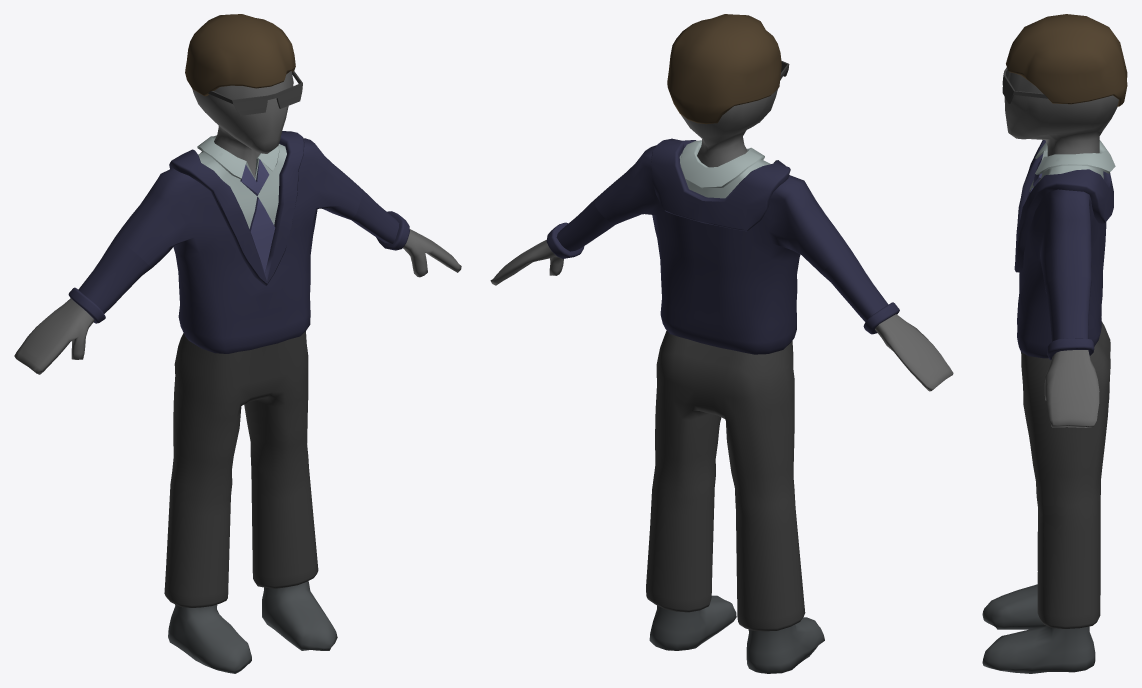
Rendered from PS_Businessman.fbx.
3 renders of one model, left to right at view 1: azimuth 30°, elevation 25°; view 2: azimuth 150°, elevation 25°; view 3: azimuth 270°, elevation 25°, orthographic. The views are drawn at different scales.
Parts seen in each view (by area): view 1: PS_BusinessMan; view 2: PS_BusinessMan; view 3: PS_BusinessMan.
Part boxes in pixels (<box>): PS_BusinessMan: <box>14,14,461,673</box>; PS_BusinessMan: <box>490,14,953,673</box>; PS_BusinessMan: <box>982,14,1127,673</box>.
Size of the model in its own units: 1.21 by 1.65 by 0.3486.
